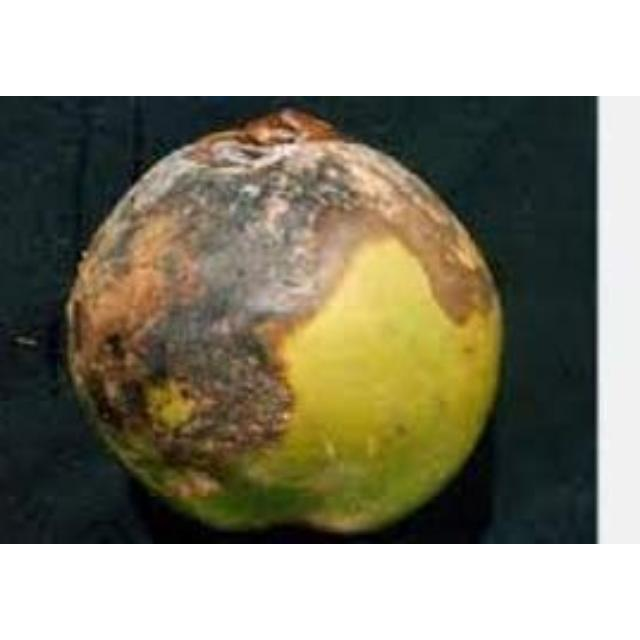damaged: (60, 108, 504, 540)
